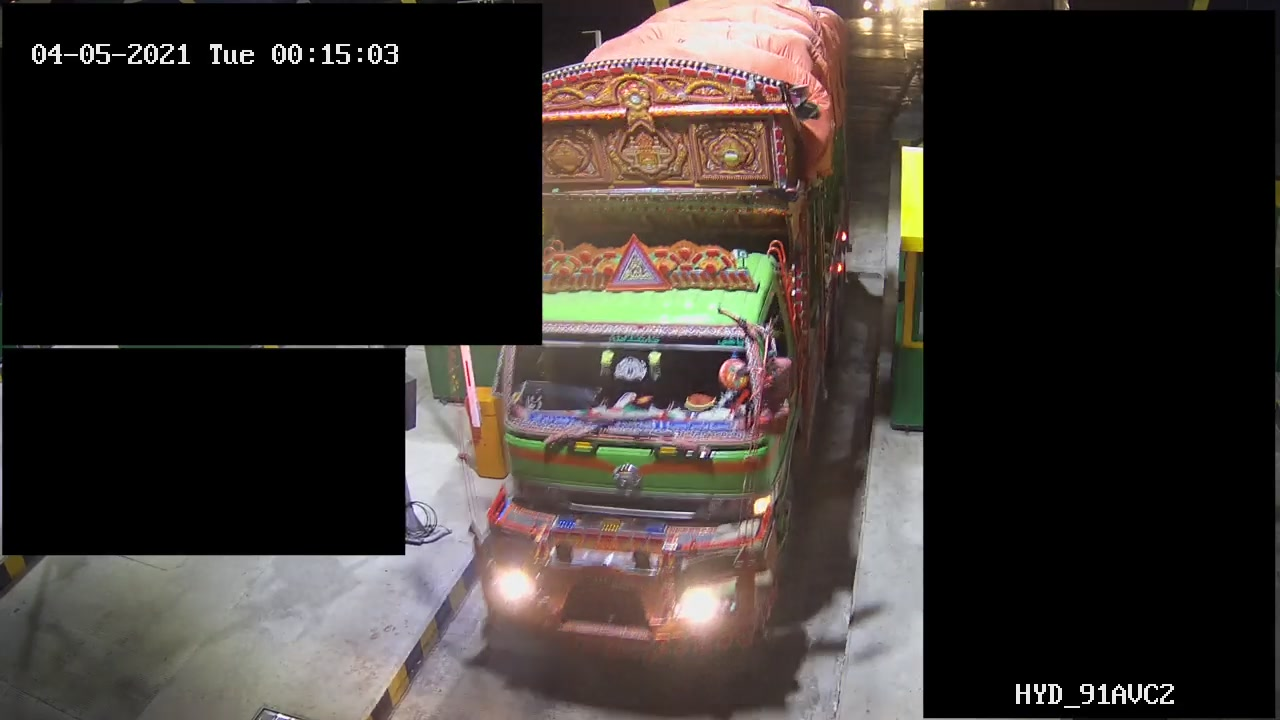F5: (426, 1, 897, 653)
